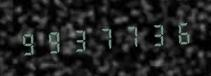nine: (17, 26, 41, 60), (42, 24, 66, 58)
seven: (92, 20, 116, 55), (117, 19, 141, 53)
six: (167, 15, 191, 49)
three: (67, 22, 91, 56), (142, 17, 166, 51)
